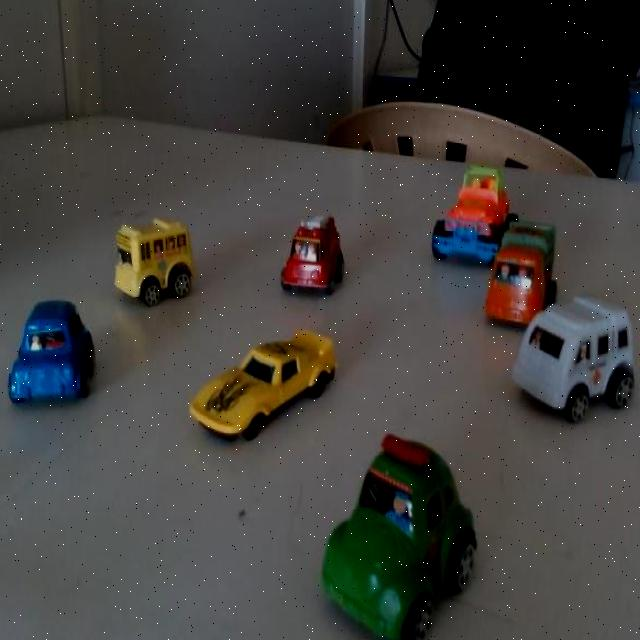car: (309, 432, 489, 640), (499, 275, 639, 446), (194, 319, 336, 451), (112, 215, 204, 321), (7, 296, 92, 408), (422, 159, 506, 267), (280, 202, 358, 312), (487, 212, 557, 332)
